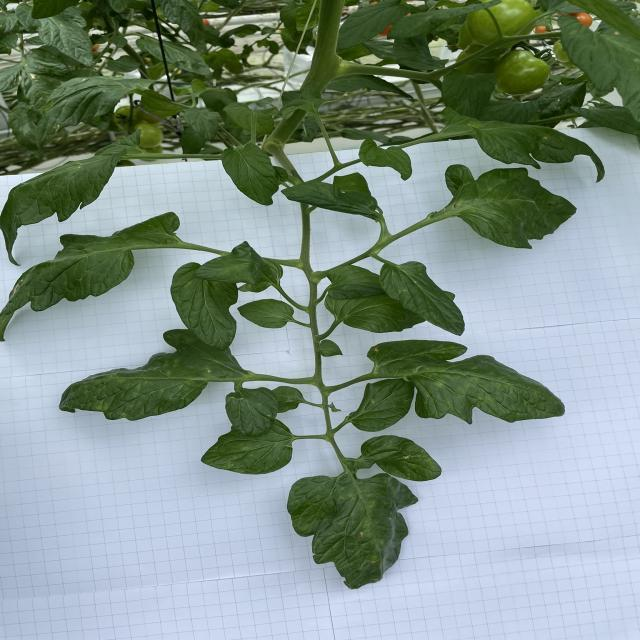Tomato healthy leaf: (0, 143, 138, 267), (444, 164, 578, 250), (171, 262, 238, 350), (16, 2, 94, 67), (193, 240, 284, 293), (388, 0, 502, 40), (325, 292, 427, 334), (280, 180, 380, 220), (220, 142, 280, 206), (338, 0, 410, 50), (153, 0, 209, 57), (441, 69, 498, 118), (358, 137, 412, 182), (328, 74, 413, 100), (327, 264, 380, 298), (237, 298, 295, 329), (223, 104, 276, 134), (185, 105, 222, 141), (140, 88, 182, 116)
Tomato target spot leaf: (0, 212, 182, 342), (365, 338, 569, 426), (58, 328, 243, 422), (286, 472, 418, 591), (381, 260, 466, 336), (200, 416, 294, 476), (361, 434, 444, 482)
